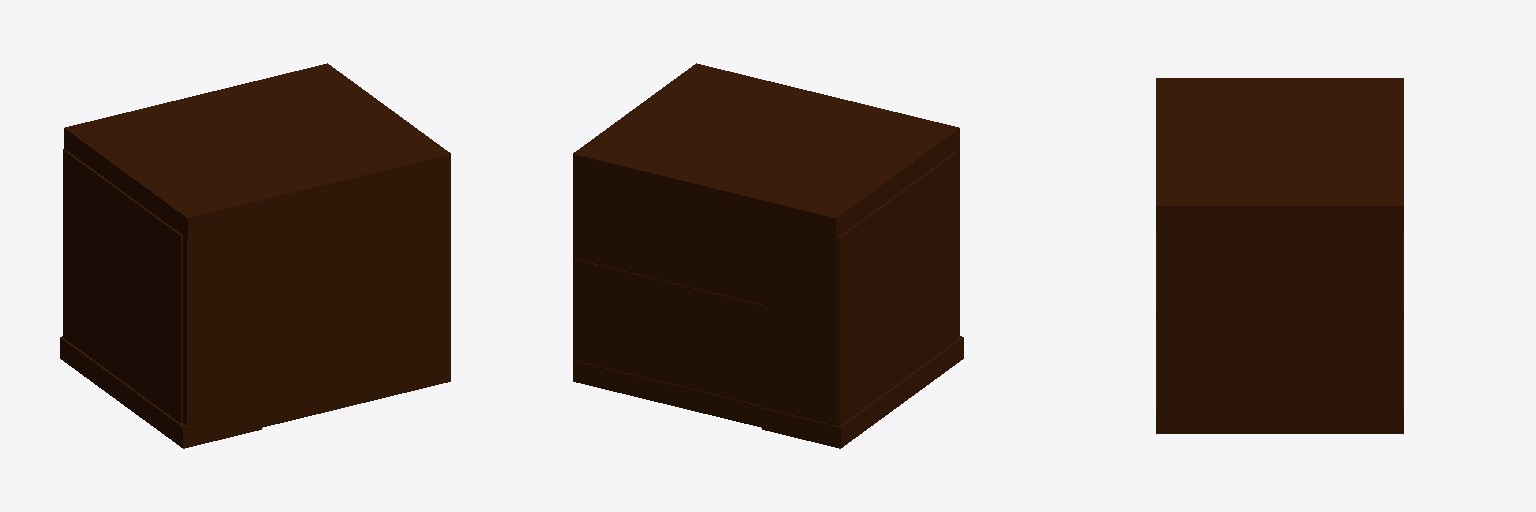
The model's file is room_1.obj.
The picture shows the model from 3 angles: view 1: azimuth 30°, elevation 25°; view 2: azimuth 150°, elevation 25°; view 3: azimuth 270°, elevation 25°; orthographic projection.
Parts seen in each view (by area): view 1: COLLISION_Cube; view 2: COLLISION_Cube; view 3: COLLISION_Cube.
Boxes of the visible parts, x1,y1,x2,y2 form: COLLISION_Cube: [60, 63, 450, 448]; COLLISION_Cube: [573, 63, 963, 448]; COLLISION_Cube: [1156, 78, 1403, 433].
Size of the model in its own units: 7.09 by 5.78 by 5.65.